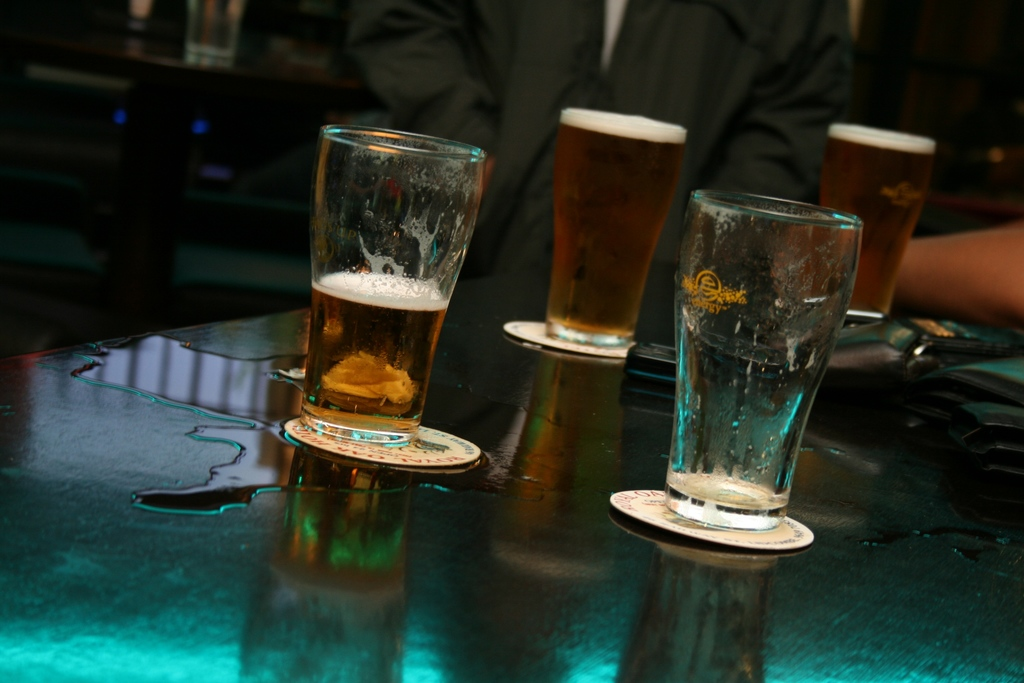Beer: (561, 115, 686, 341), (307, 275, 451, 441), (828, 126, 933, 313)
